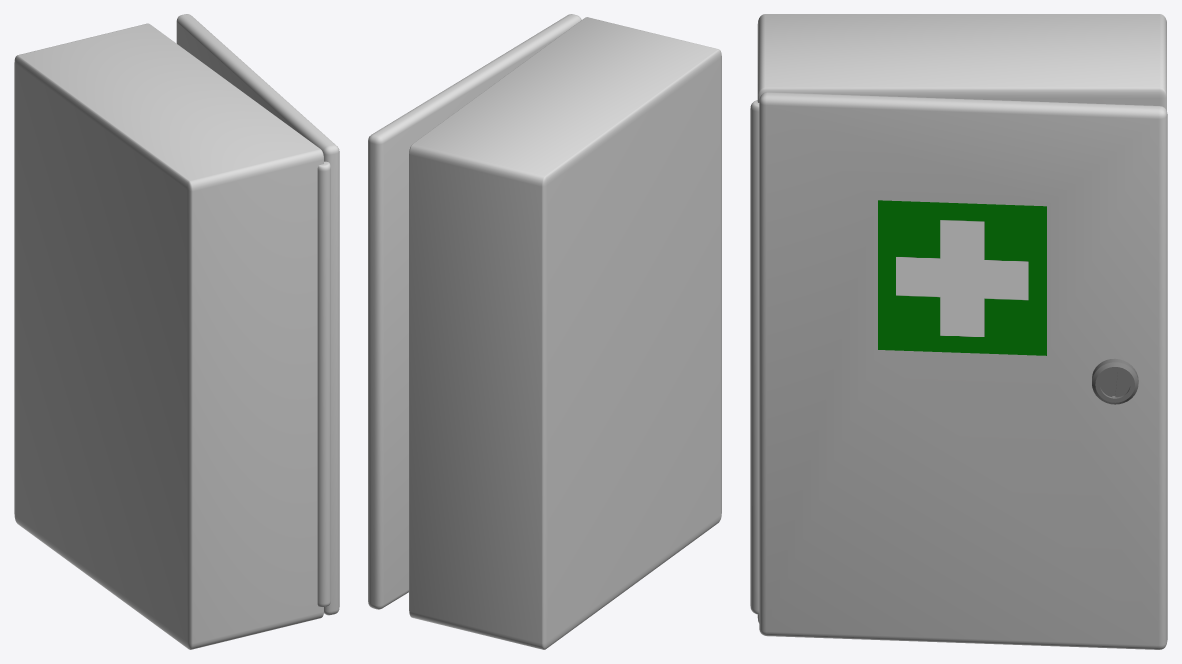
The model's file is Apteczka.fbx.
The picture shows the model from 3 angles, left to right: view 1: azimuth 30°, elevation 25°; view 2: azimuth 150°, elevation 25°; view 3: azimuth 270°, elevation 25°; orthographic projection. The views are drawn at different scales.
Parts seen in each view (by area): view 1: Cube; view 2: Cube; view 3: Cube.
Part boxes in pixels (x1,y1,x2,y2): Cube: (14,14,339,649); Cube: (368,14,721,649); Cube: (750,14,1167,649).
Size of the model in its own units: 248 by 608 by 425.
